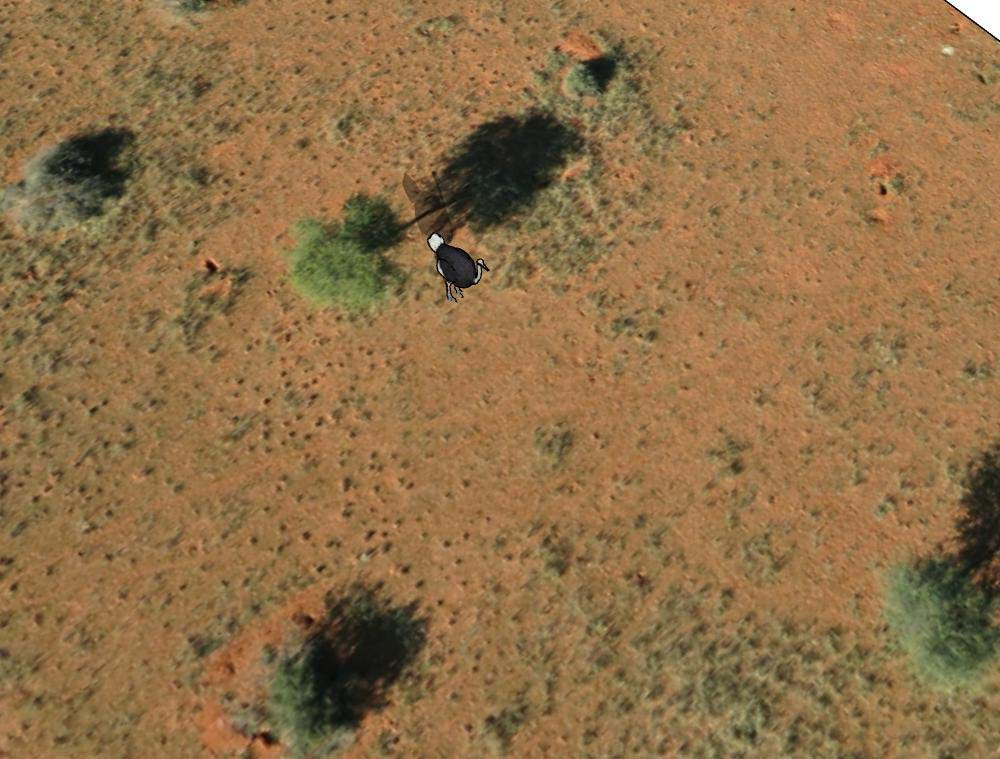ostrich: (424, 233, 489, 306)
